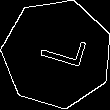L_W: (28, 32, 86, 76)
